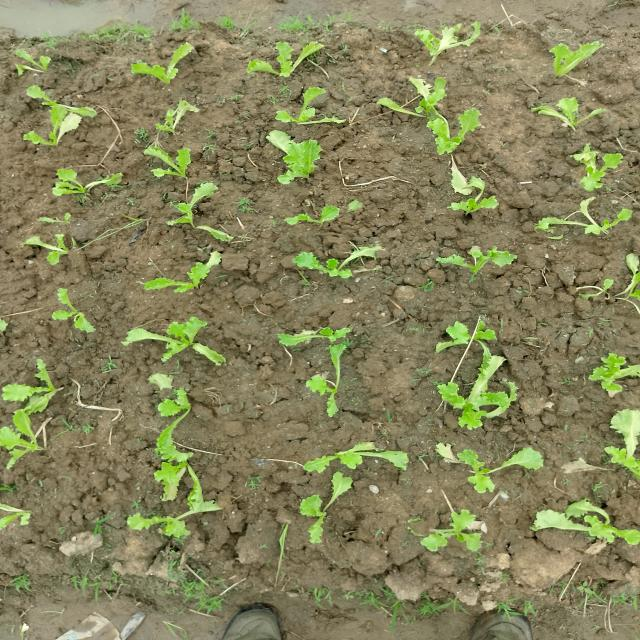Lettuce: (531, 495, 640, 557), (428, 439, 550, 491), (432, 362, 522, 426), (146, 422, 218, 500), (416, 502, 490, 568), (131, 316, 225, 364), (244, 34, 322, 89), (135, 251, 226, 298), (286, 442, 410, 476), (123, 498, 218, 542), (533, 200, 640, 238), (294, 472, 351, 540), (273, 84, 354, 131), (438, 310, 500, 371), (287, 239, 383, 278), (436, 244, 528, 284), (300, 345, 352, 415), (44, 164, 137, 203), (581, 255, 640, 315), (264, 129, 326, 185), (440, 166, 503, 221), (597, 405, 640, 482), (170, 188, 233, 240), (567, 140, 627, 194), (528, 93, 613, 130), (278, 312, 356, 352), (7, 356, 64, 409), (420, 109, 483, 155), (536, 36, 601, 80), (381, 74, 452, 113), (586, 348, 640, 399), (143, 36, 200, 83), (416, 17, 492, 52), (26, 104, 81, 152), (280, 198, 344, 239), (0, 406, 38, 474), (142, 144, 200, 186), (49, 290, 101, 334), (140, 102, 204, 137), (21, 231, 77, 266), (8, 44, 58, 79)
